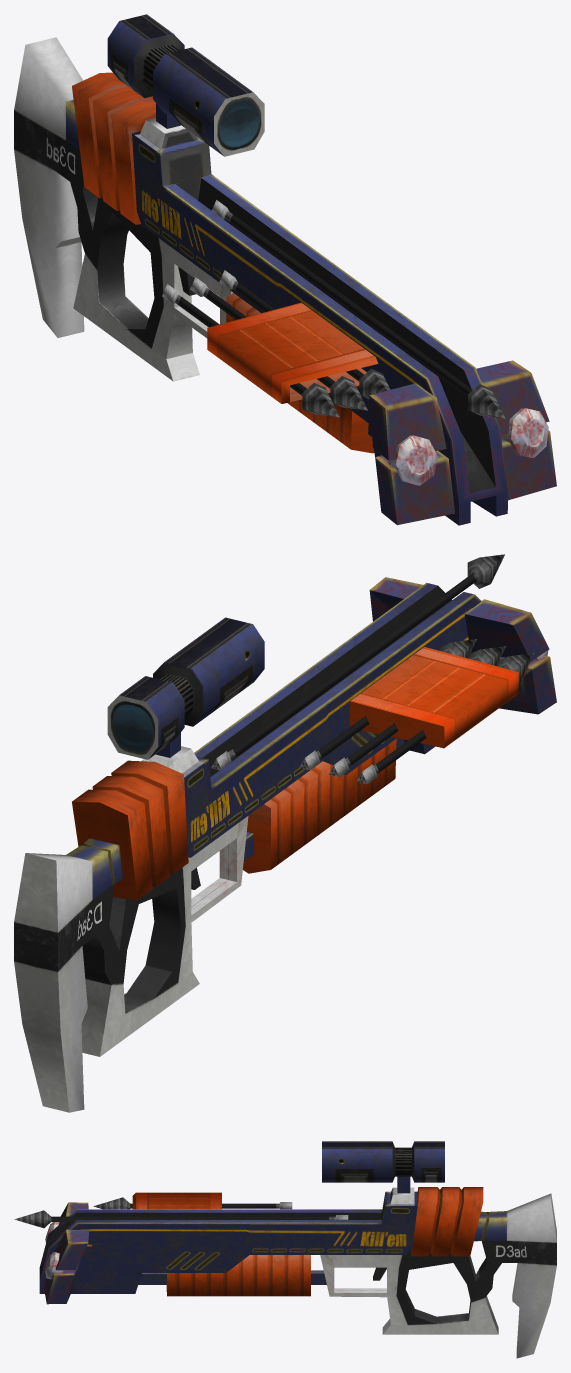
File: Weapon-Full_Anim.FBX
3 views of the same model, one above another, from view 1: azimuth 30°, elevation 25°; view 2: azimuth 150°, elevation 25°; view 3: azimuth 270°, elevation 25° (orthographic). The views are drawn at different scales.
Parts seen in each view (by area): view 1: Crossbow_Base, Arrow_Box, Arrow_Principal, Arrow 01, Arrow 02, Arrow 03; view 2: Crossbow_Base, Arrow_Box, Arrow_Principal, Arrow 01, Arrow 02, Arrow 03; view 3: Crossbow_Base, Arrow_Principal, Arrow_Box, Arrow 01.
Part boxes in pixels (box(x1,y1,x2,y2)): Crossbow_Base: box(14, 14, 556, 525); Arrow_Box: box(207, 302, 378, 403); Arrow_Principal: box(212, 200, 505, 418); Arrow 01: box(162, 284, 339, 417); Arrow 02: box(190, 277, 367, 410); Arrow 03: box(219, 270, 390, 399); Crossbow_Base: box(14, 577, 556, 1112); Arrow_Box: box(350, 647, 518, 748); Arrow_Principal: box(211, 554, 504, 770); Arrow 01: box(356, 653, 534, 783); Arrow 02: box(328, 646, 505, 777); Arrow 03: box(299, 639, 476, 769); Crossbow_Base: box(39, 1141, 556, 1358); Arrow_Principal: box(14, 1210, 348, 1228); Arrow_Box: box(132, 1192, 221, 1209); Arrow 01: box(93, 1197, 292, 1209).
Size of the model in its own units: 38.45 by 67.01 by 157.
